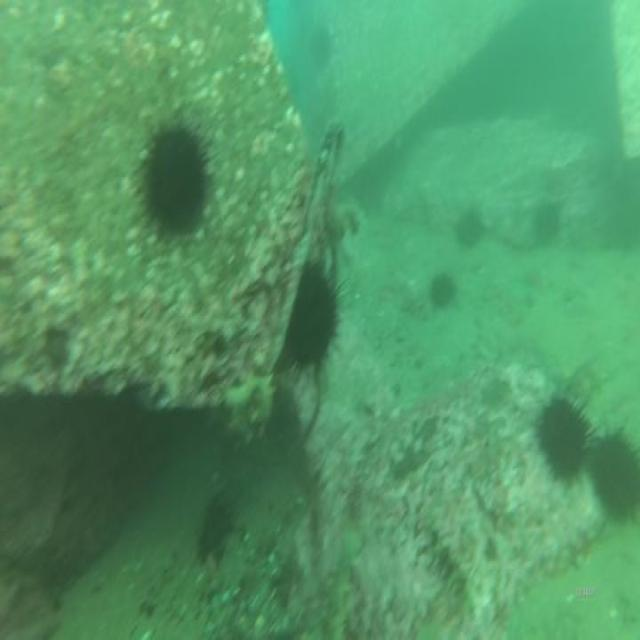echinus: (137, 114, 217, 251), (276, 246, 348, 382), (527, 368, 591, 481), (585, 417, 638, 533), (198, 490, 238, 567), (428, 264, 458, 316), (457, 202, 483, 255)
holothurian: (220, 370, 276, 455)
